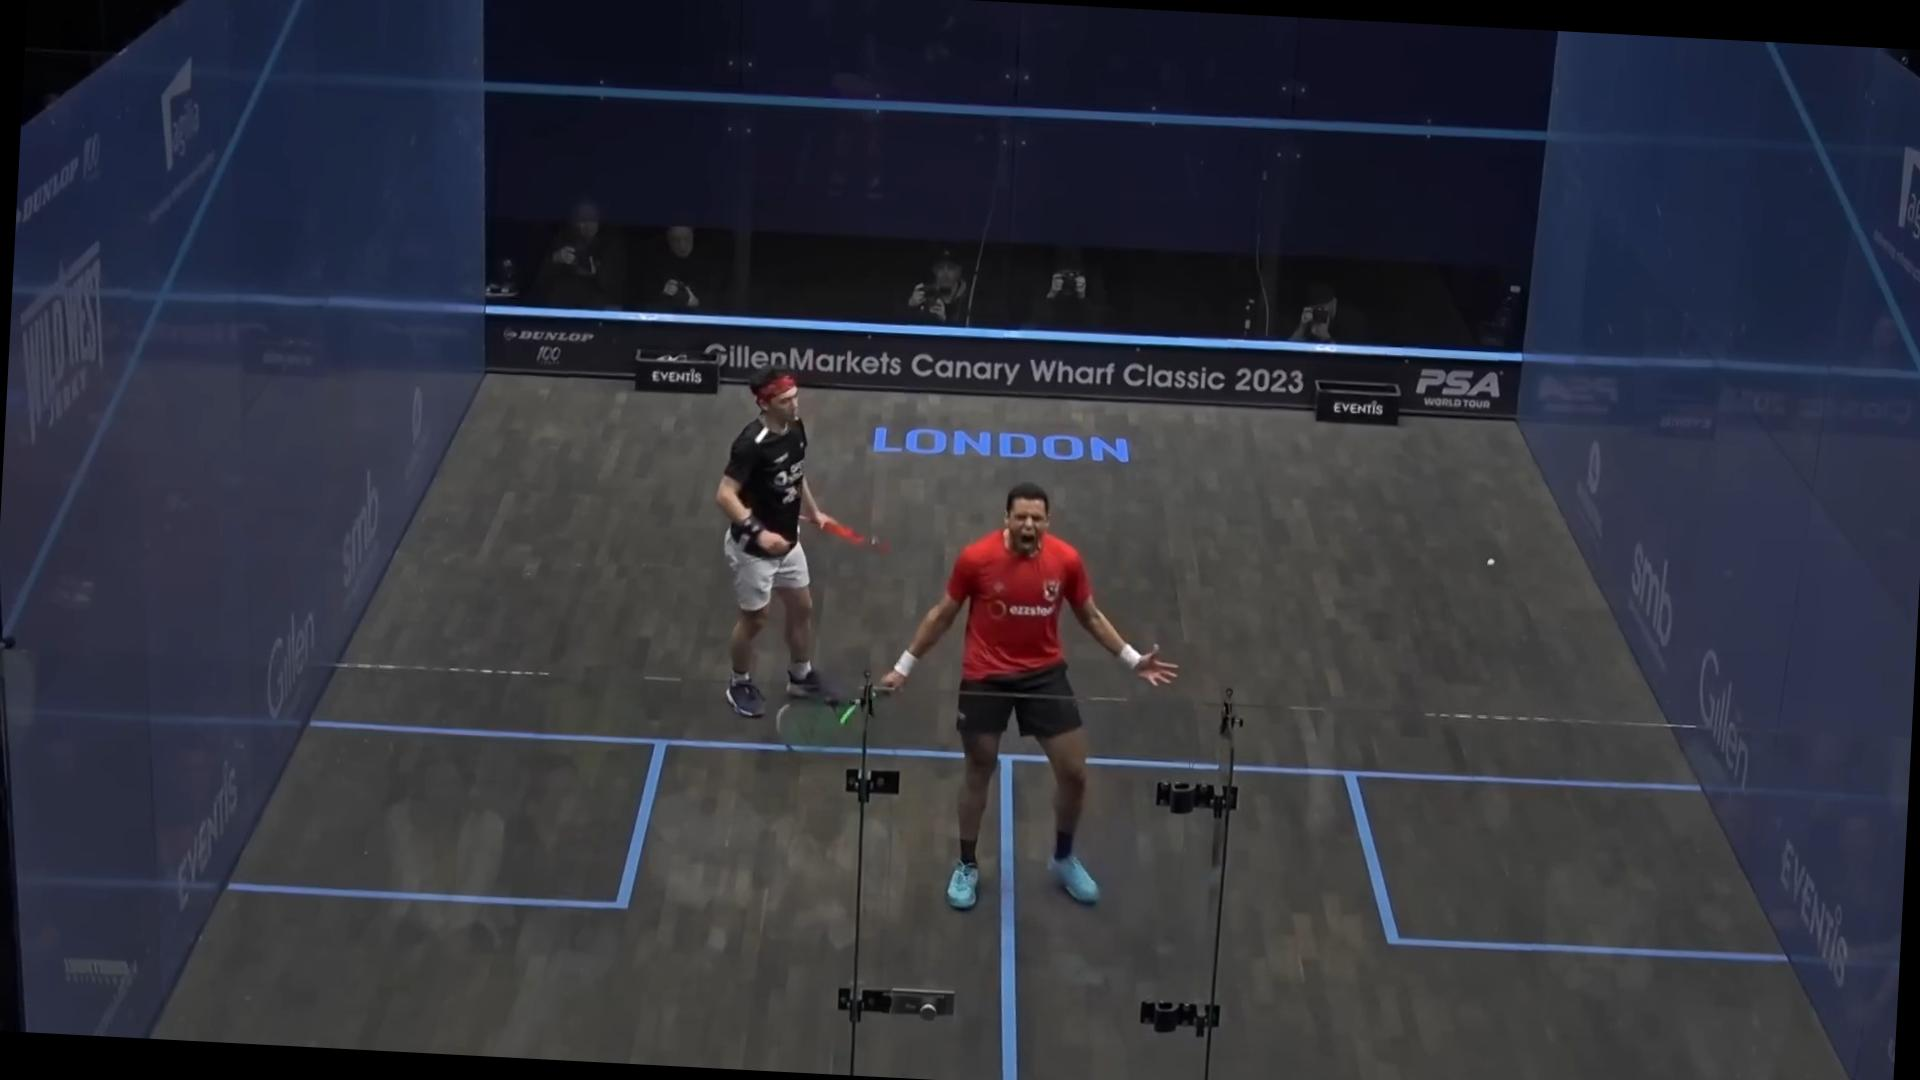Racket: (761, 679, 887, 766)
